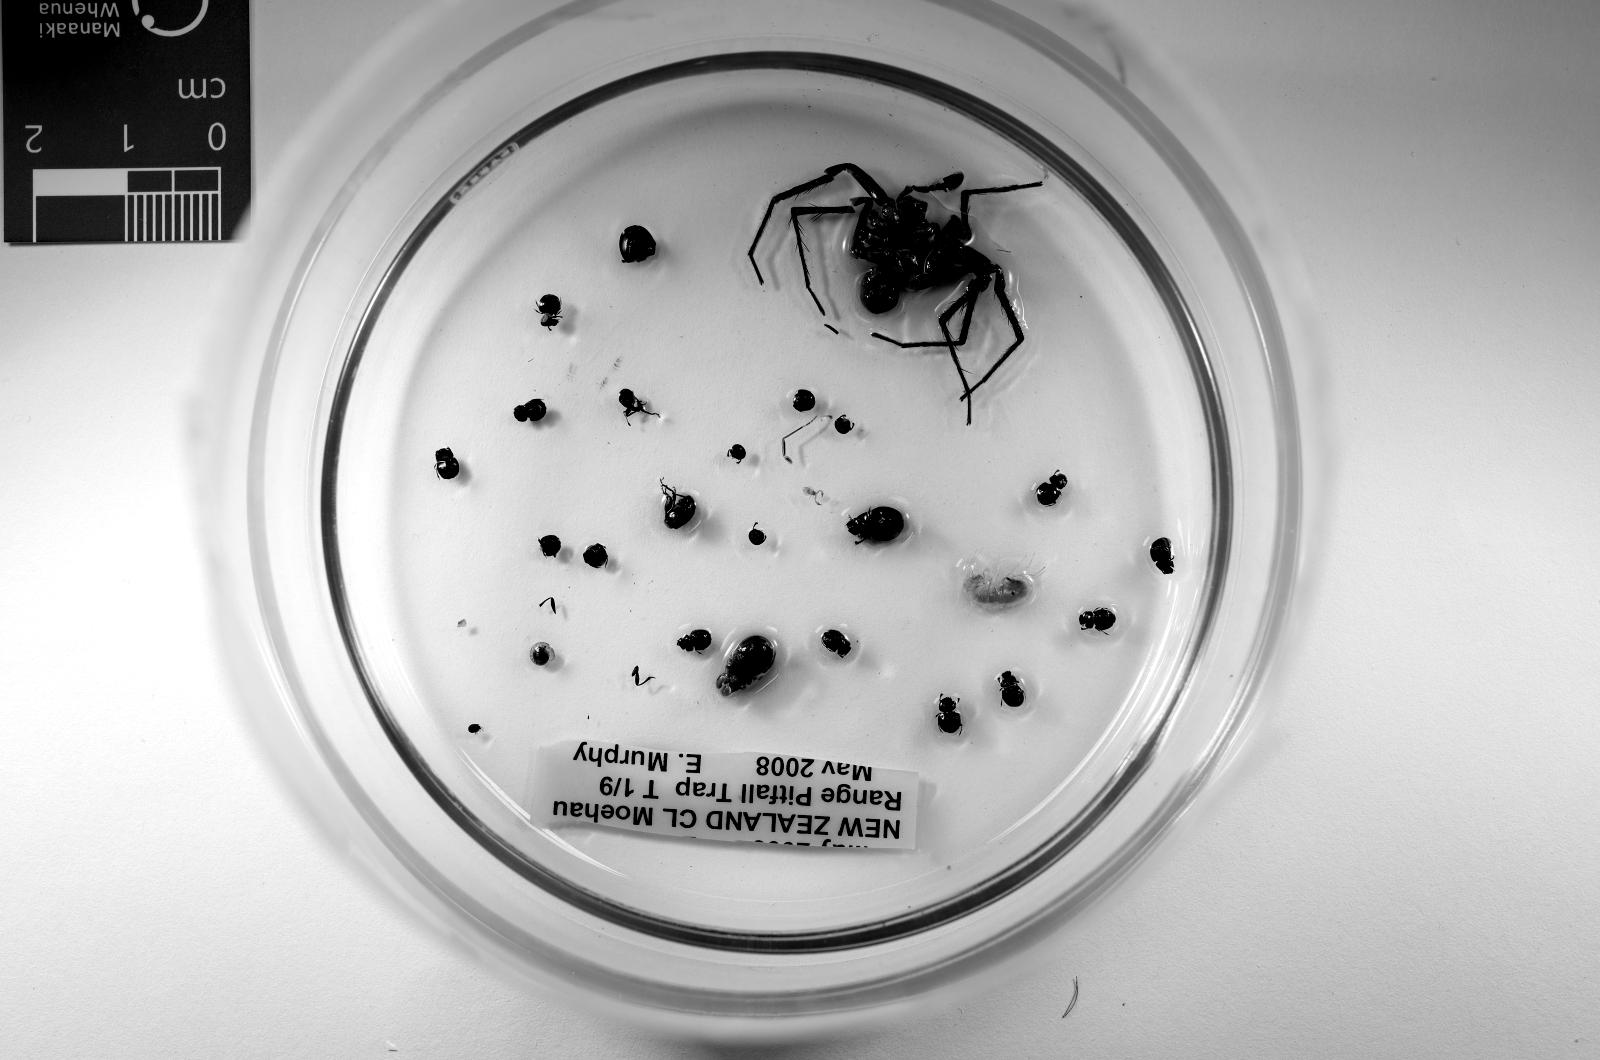amphipoda: (963, 571, 1031, 608)
araneae: (750, 161, 1041, 427)
coleoptera: (847, 506, 903, 543), (660, 481, 697, 531), (1035, 472, 1069, 506), (997, 671, 1025, 707), (1149, 537, 1175, 575), (938, 696, 963, 733), (512, 397, 546, 422), (538, 295, 563, 329), (1078, 608, 1115, 631), (822, 631, 850, 658), (434, 447, 459, 478), (678, 631, 713, 652)
gastropoda: (529, 642, 556, 665)
opiliones: (715, 636, 775, 696)
